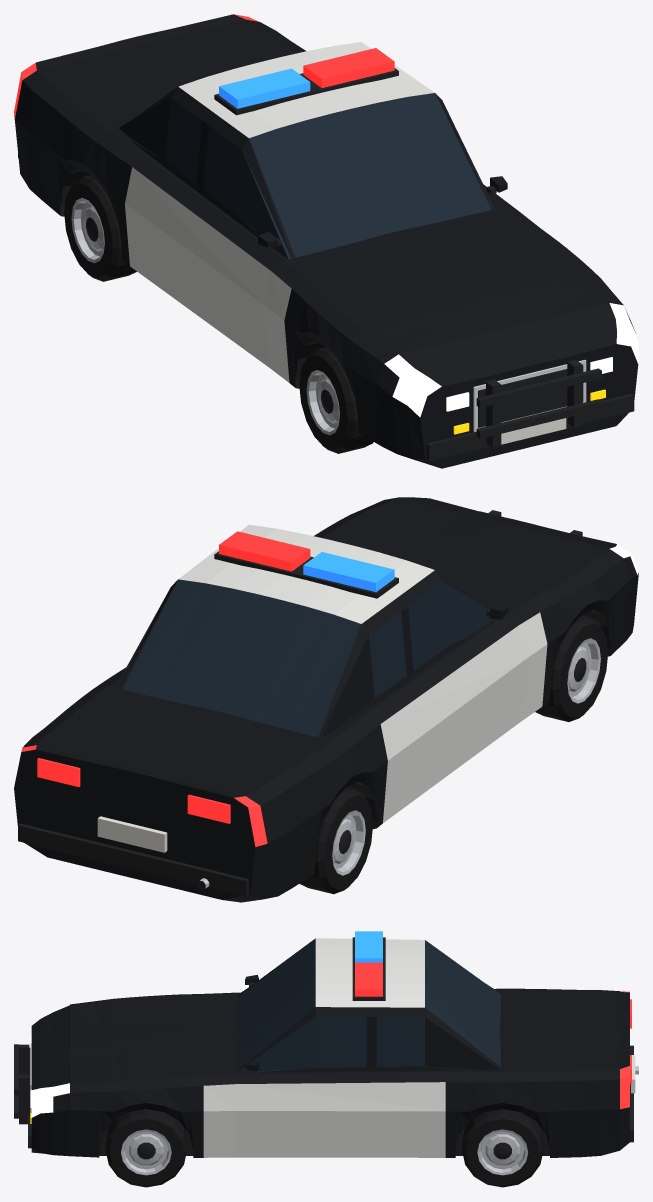
File: police-car-01.glb
3 renders of one model, top to bottom at view 1: azimuth 30°, elevation 25°; view 2: azimuth 150°, elevation 25°; view 3: azimuth 270°, elevation 25°, orthographic. The views are drawn at different scales.
Parts seen in each view (by area): view 1: Body, Wheel_FR, Wheel_RR; view 2: Body, Wheel_RR, Wheel_FR; view 3: Body, Wheel_RL, Wheel_FL.
Boxes of the visible parts, x1,y1,x2,y2 form: Body: [14, 14, 638, 468]; Wheel_FR: [299, 347, 373, 453]; Wheel_RR: [64, 175, 136, 281]; Body: [14, 497, 638, 902]; Wheel_RR: [299, 787, 372, 894]; Wheel_FR: [535, 615, 607, 721]; Body: [14, 931, 638, 1157]; Wheel_RL: [462, 1109, 543, 1187]; Wheel_FL: [105, 1109, 186, 1187].
Size of the model in its own units: 1.84 by 1.57 by 4.91.
